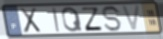I: (51, 7, 61, 33)
Q: (60, 6, 84, 34)
S: (101, 5, 124, 33)
V: (120, 4, 142, 32)
X: (18, 7, 42, 34)
Z: (81, 7, 105, 33)
